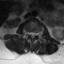CCS_normal: (31, 30, 33, 40)
LFS_normal: (35, 30, 38, 37)
LLS_normal: (33, 30, 35, 39)
RFS_normal: (27, 30, 29, 38)
RLS_normal: (29, 30, 31, 39)
